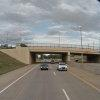Bridge: (16, 36, 95, 61)
